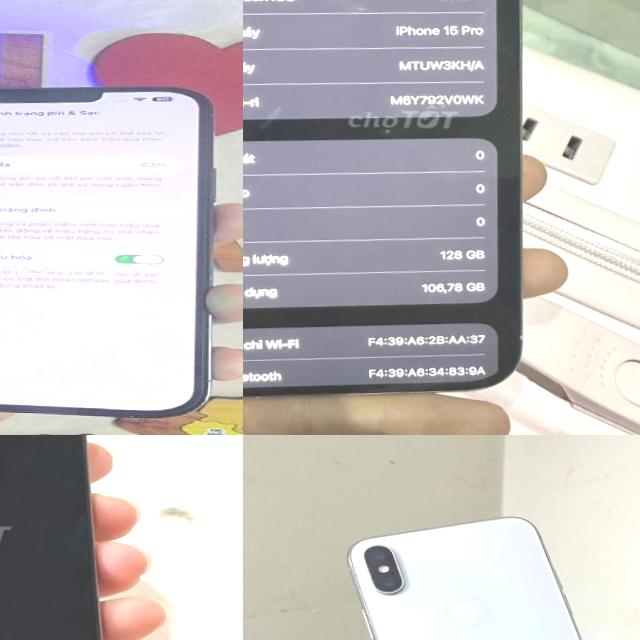gen_12_13: (0, 72, 243, 430), (0, 435, 130, 640)
gen_15: (243, 0, 540, 422)
gen_x_xs: (348, 517, 582, 640)
